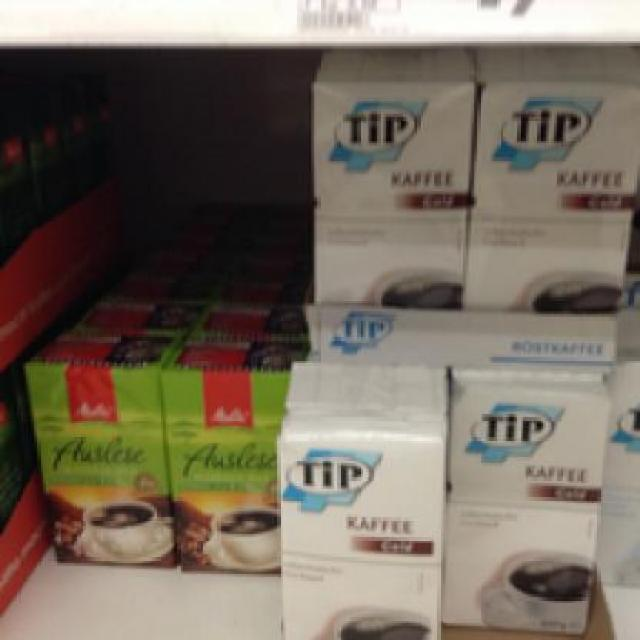Coffee: (270, 360, 447, 637), (440, 368, 606, 628), (306, 53, 472, 310), (465, 74, 638, 306), (22, 328, 178, 566), (156, 334, 290, 577)
